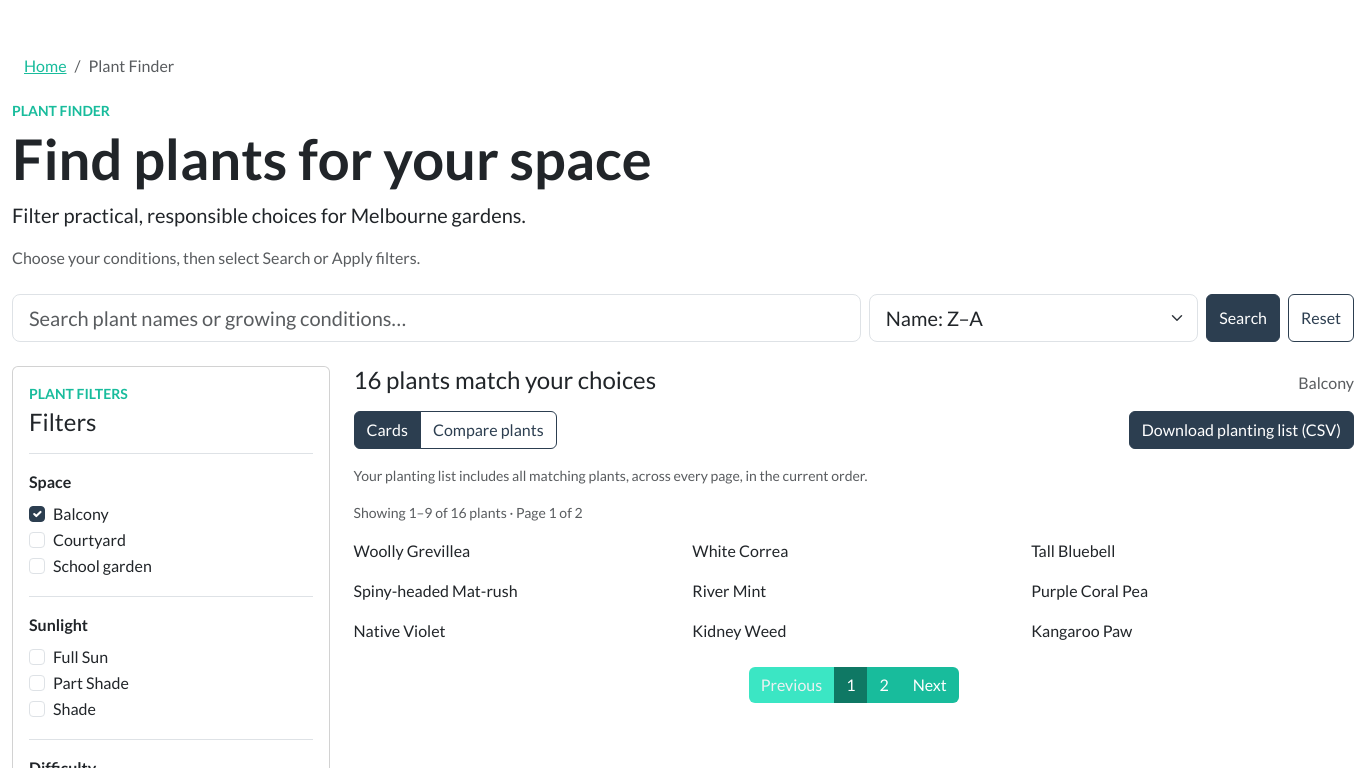
Scenario: plant finder comparison and planting lists › exports the filtered table in the selected order, and disables empty exports
Click the button "Compare plants". click: [488, 430]
box: [420,411,557,449]
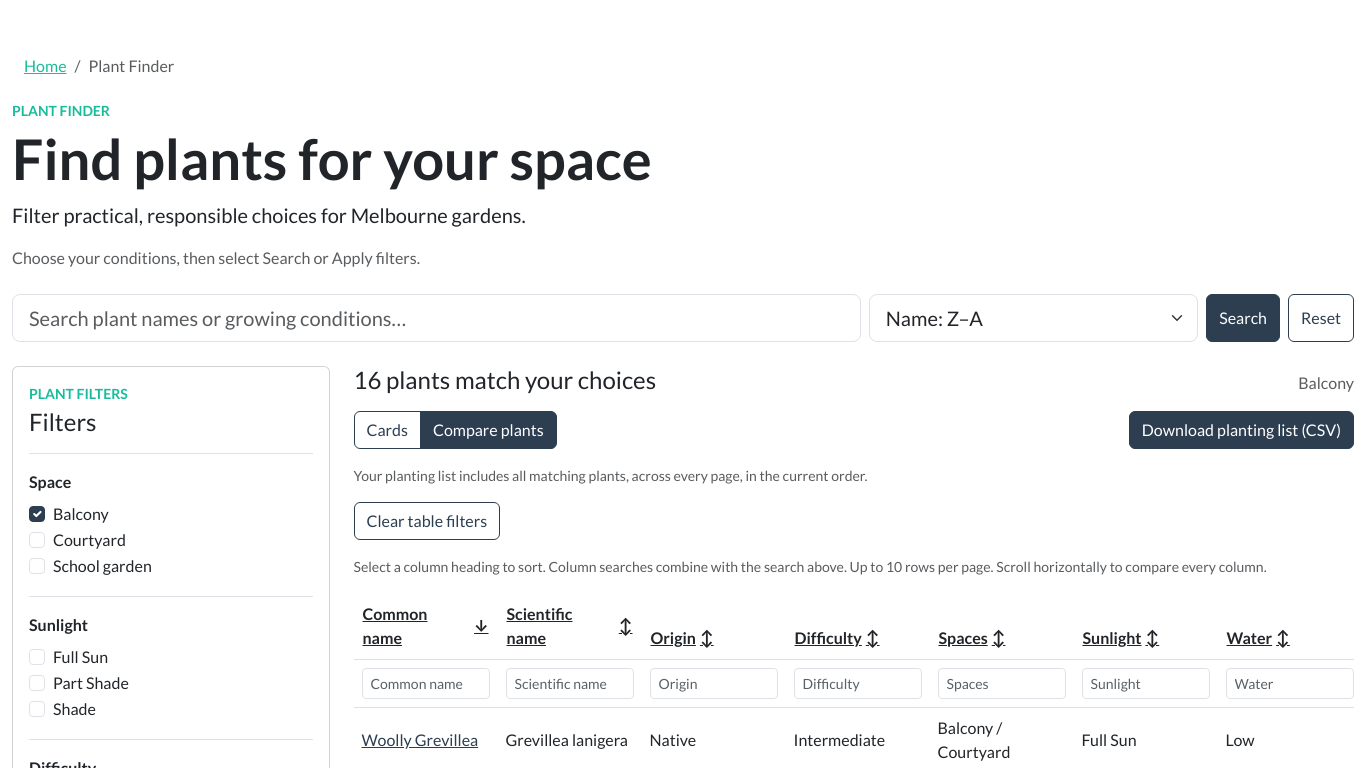
Type "moderate" into the search field with placeholder "Water". click: [1290, 684]
box: [1226,668,1354,699]
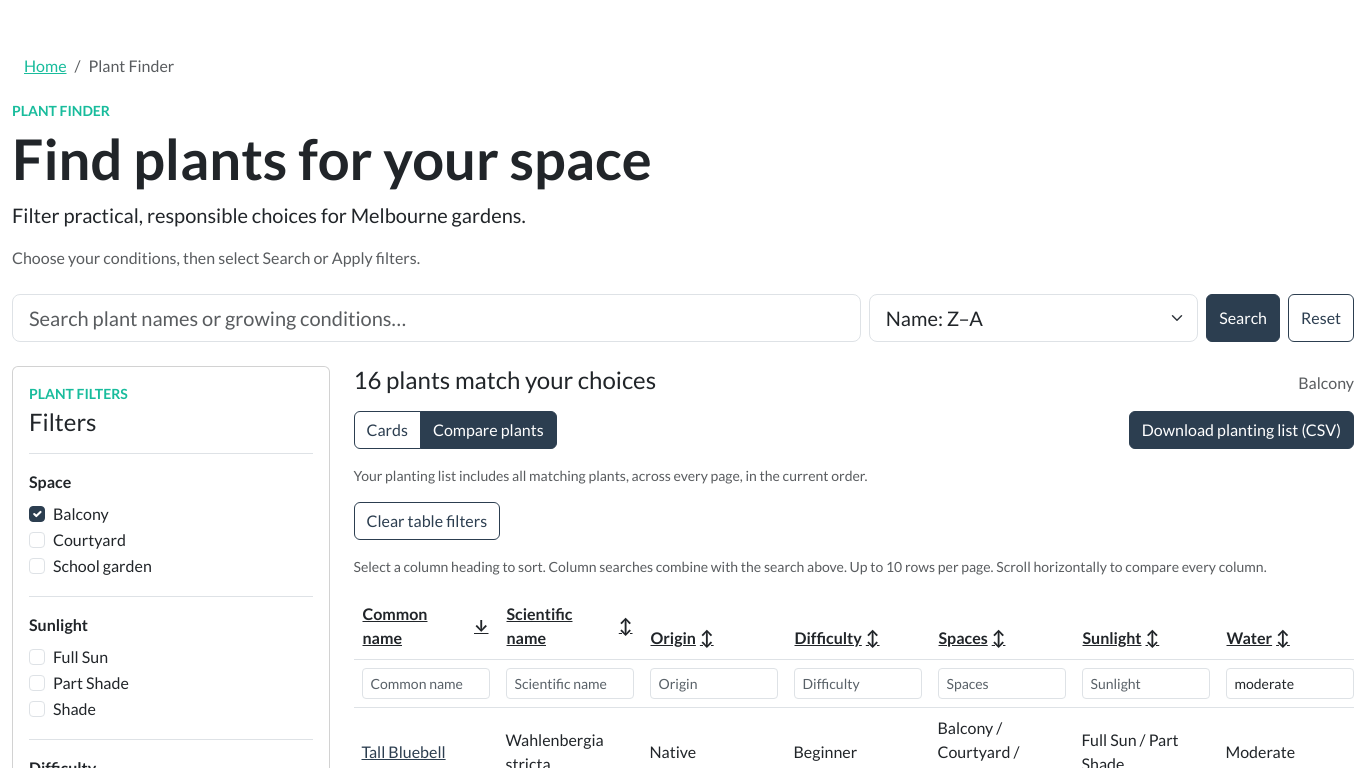
Click the button with aria-label "Sort by Common name, ascending". click: [426, 626]
box: [362,601,490,651]
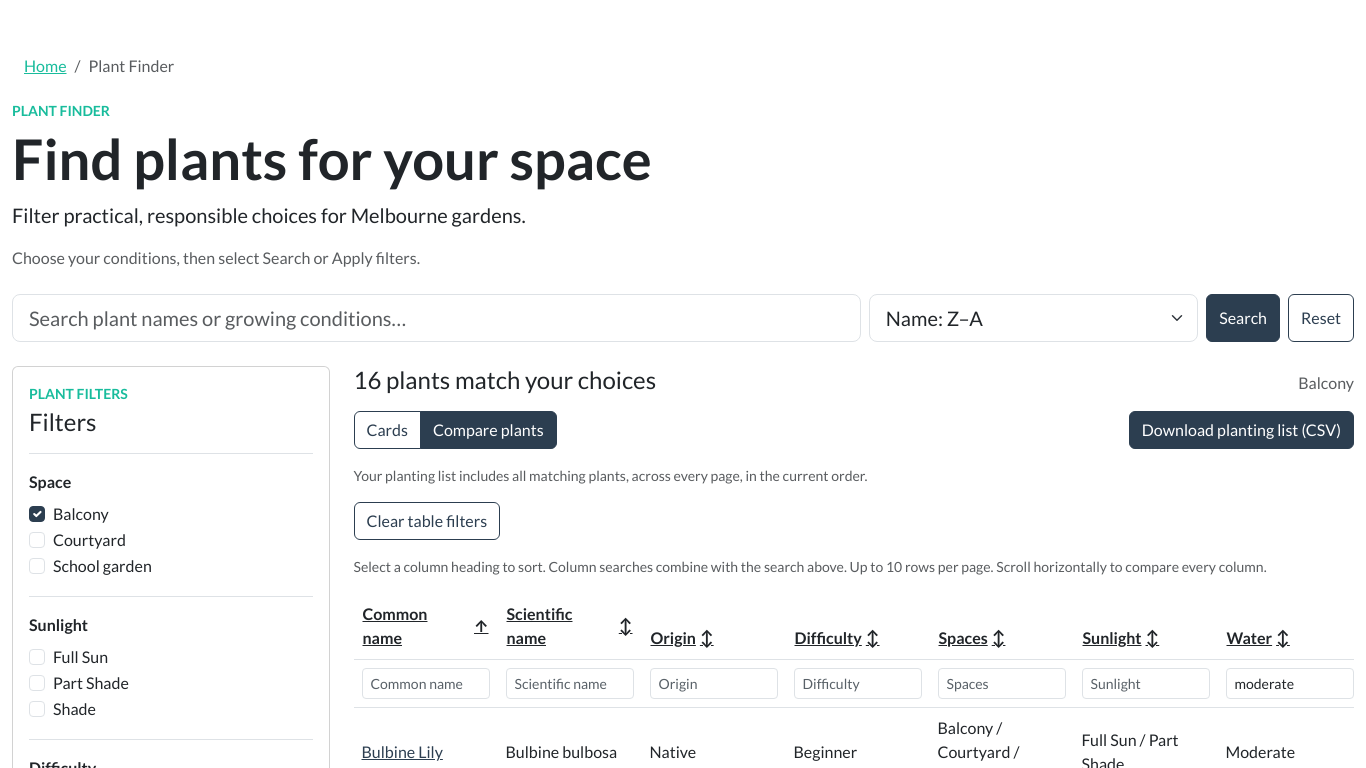
Click the button "Download planting list (CSV)". click: [1241, 430]
box: [1129,411,1354,449]
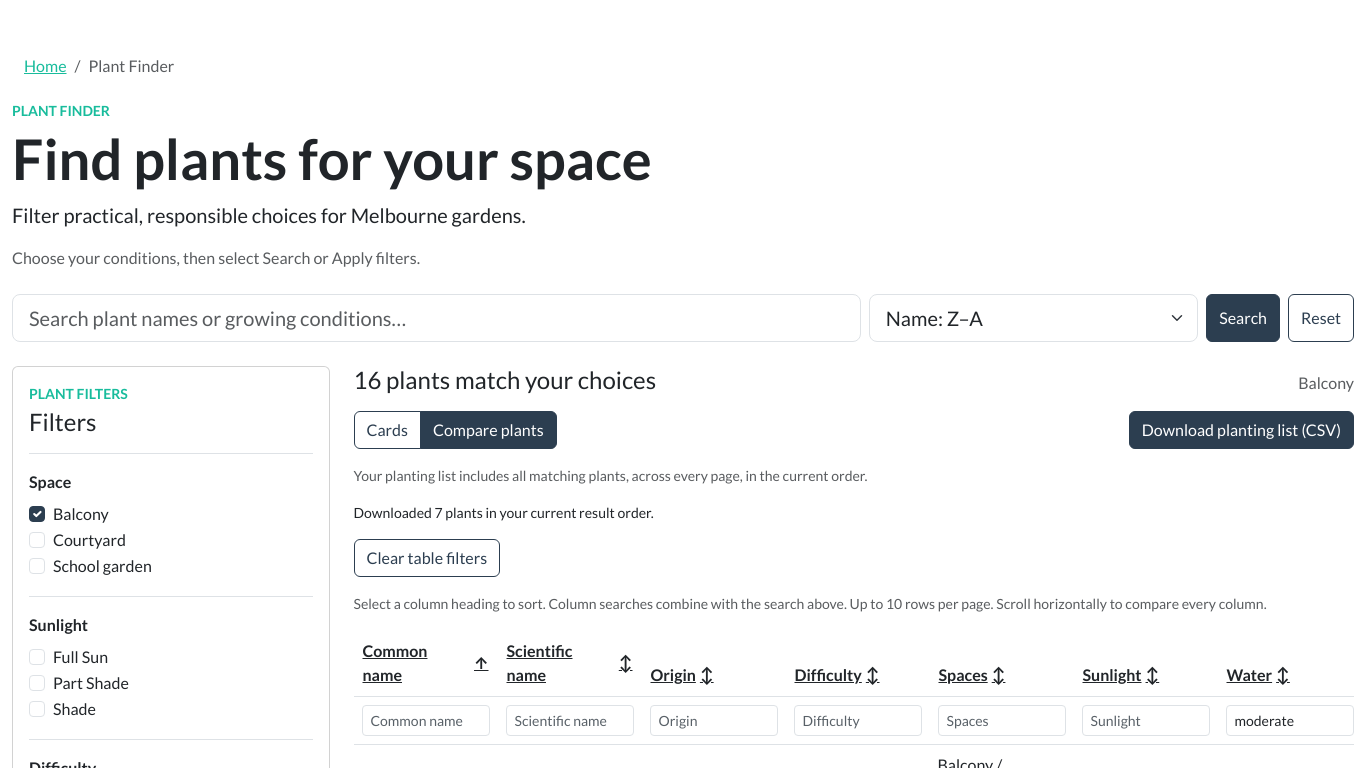
Type "unmatched" into the search field with placeholder "Common name". click: [426, 721]
box: [362,705,490,736]
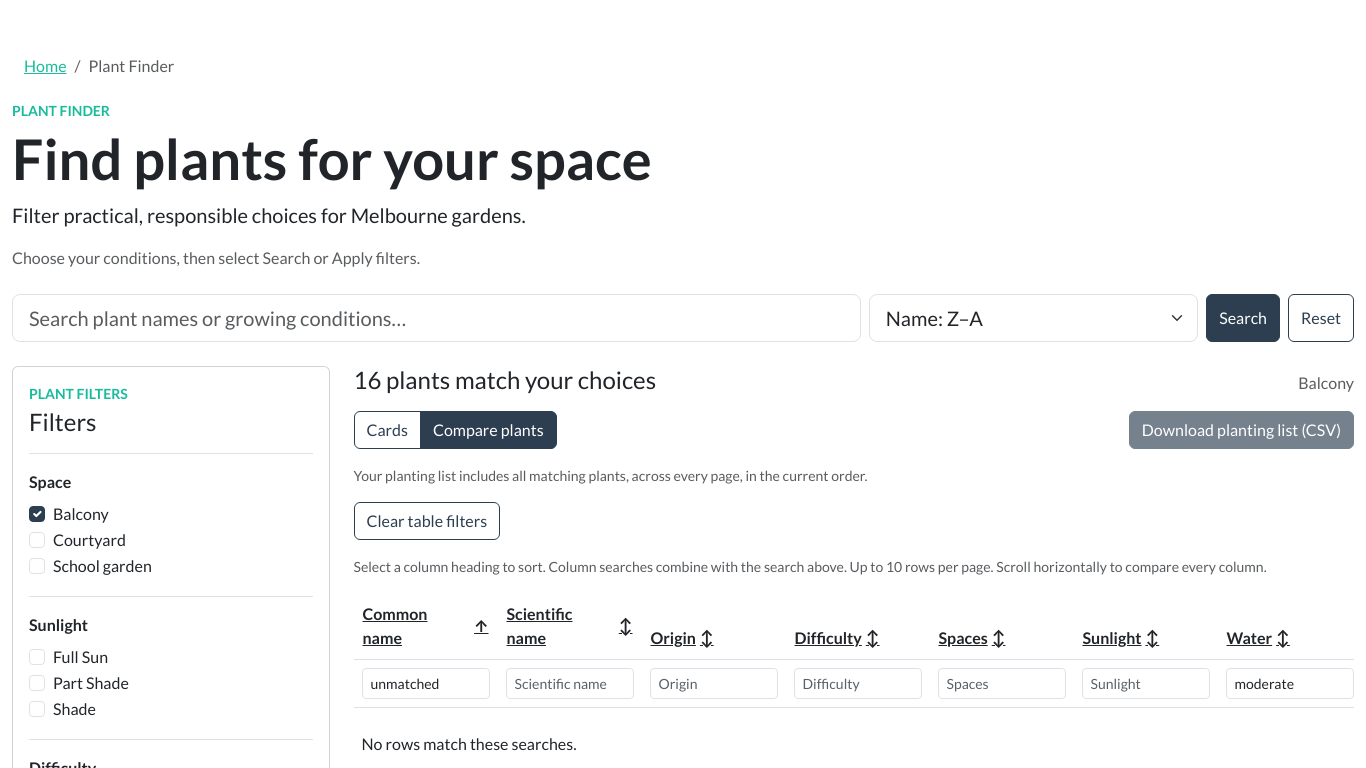
Check: the button "Download planting list (CSV)" is disabled, box [1129,411,1354,449]
Check: the text "No rows match" is shown, box [362,734,576,753]
